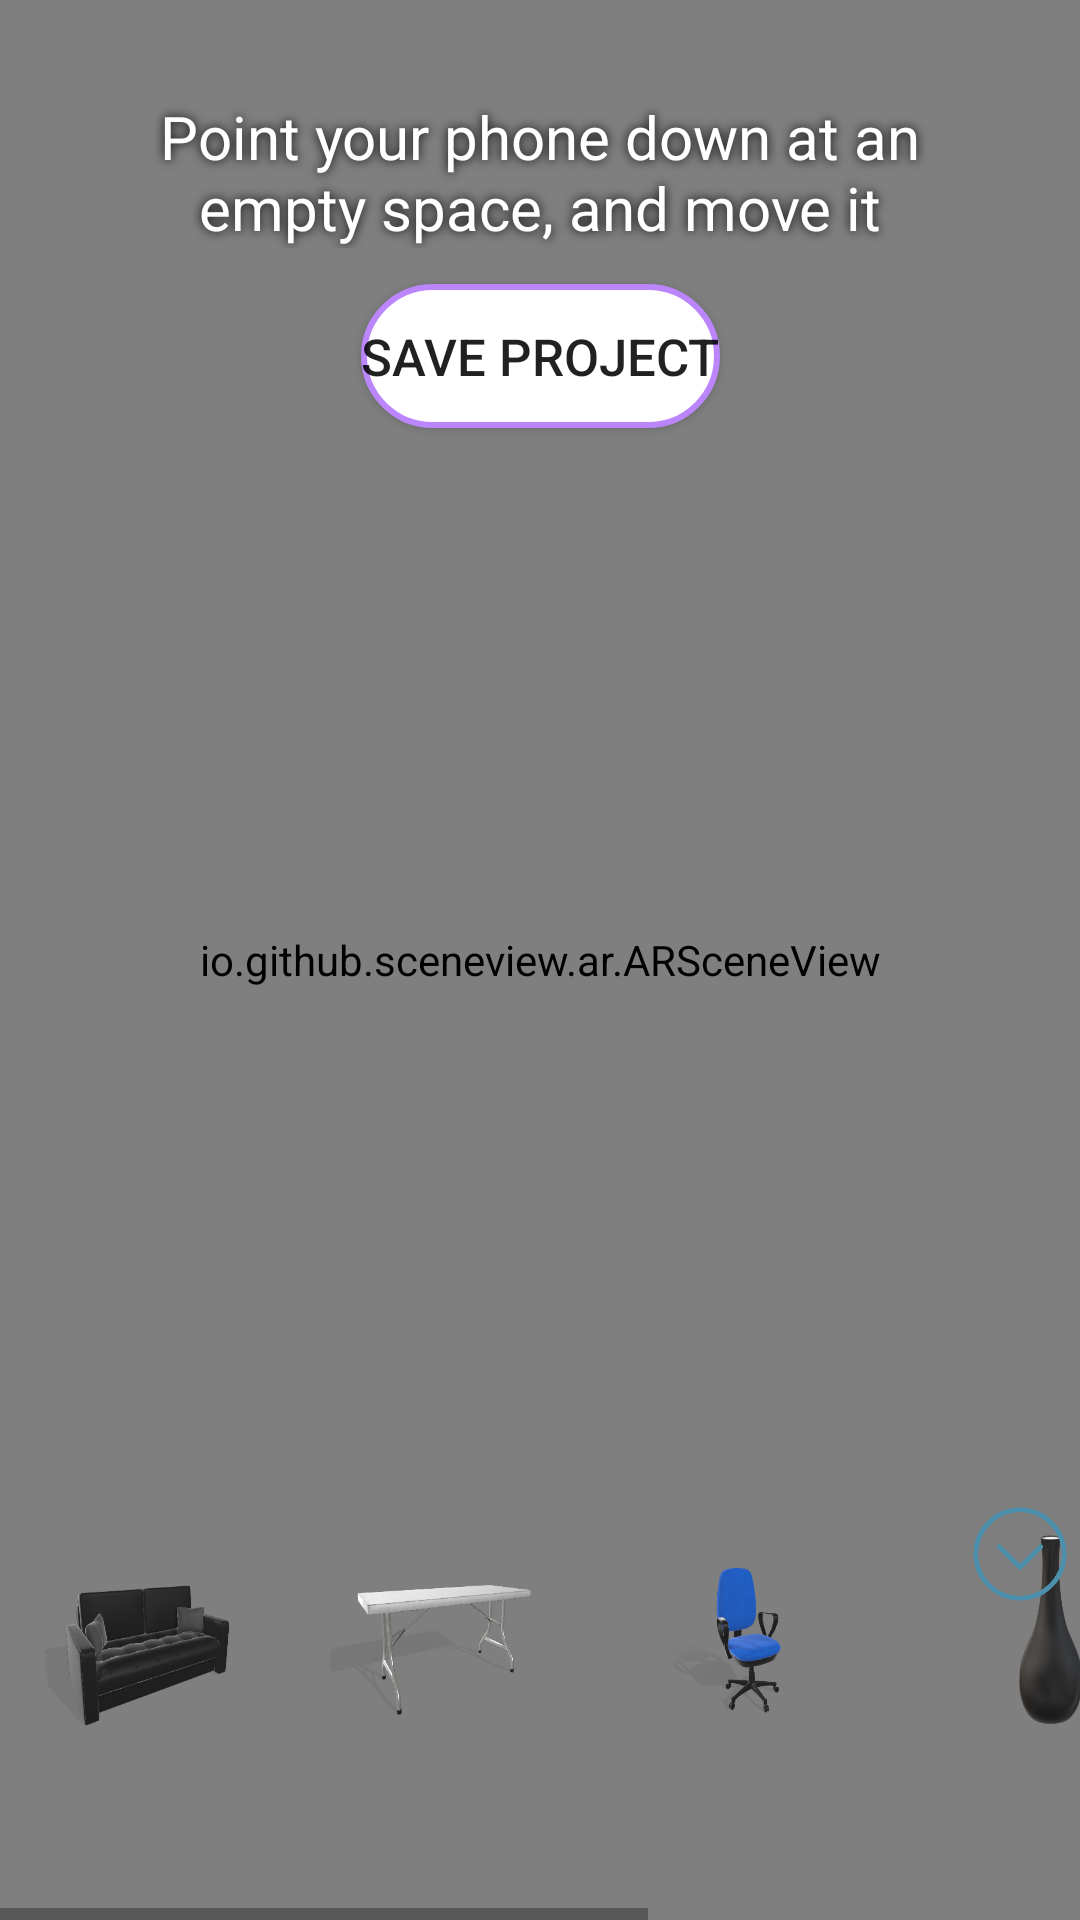

Icon click points for this 1080w x 1920h phone screenshot, format (x=x, y=y):
folding table: (x=444, y=1650)
office chair: (x=749, y=1640)
sofa: (x=148, y=1655)
